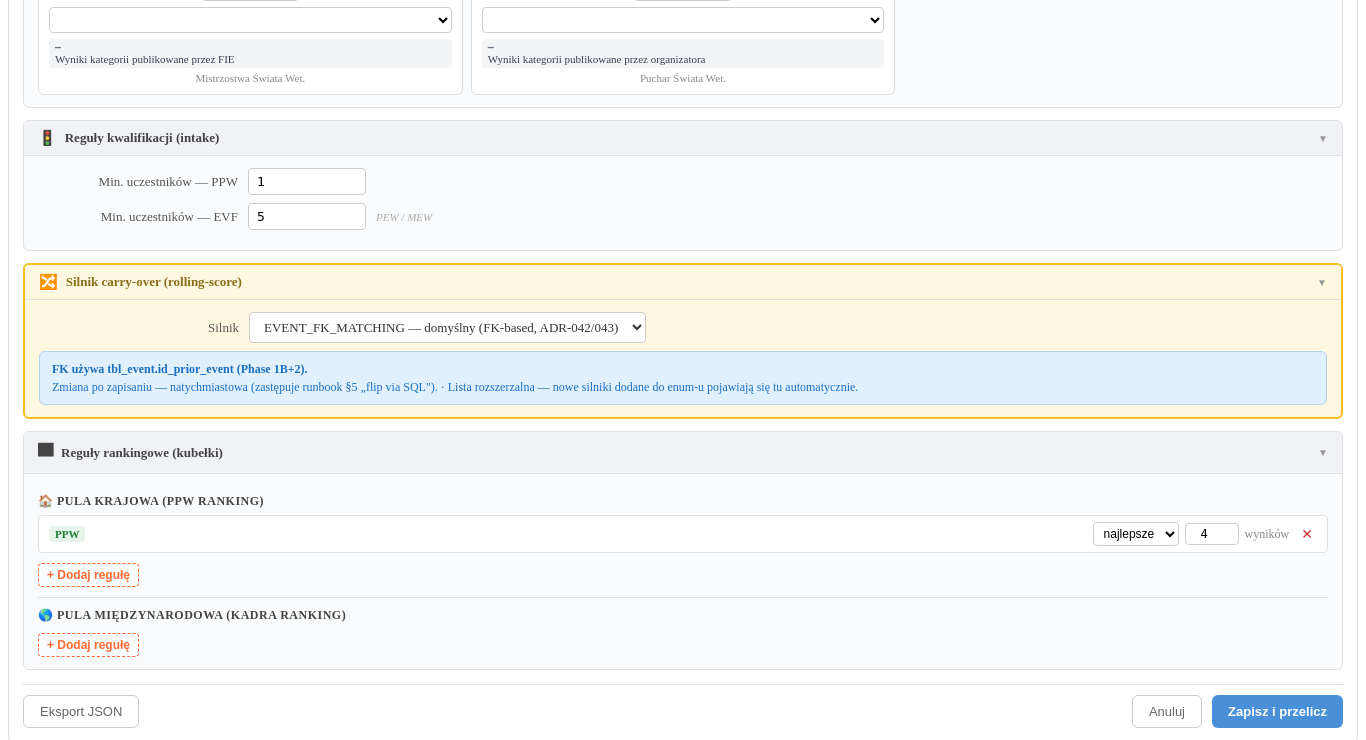
Test case: ScoringConfigEditor (T8.8) › can add a new bucket to domestic pool
(page scrolled)
Click the button with class "add-bucket-btn" below "🏠 Pula krajowa (PPW ranking)" at (88, 575), box [38, 563, 139, 587]
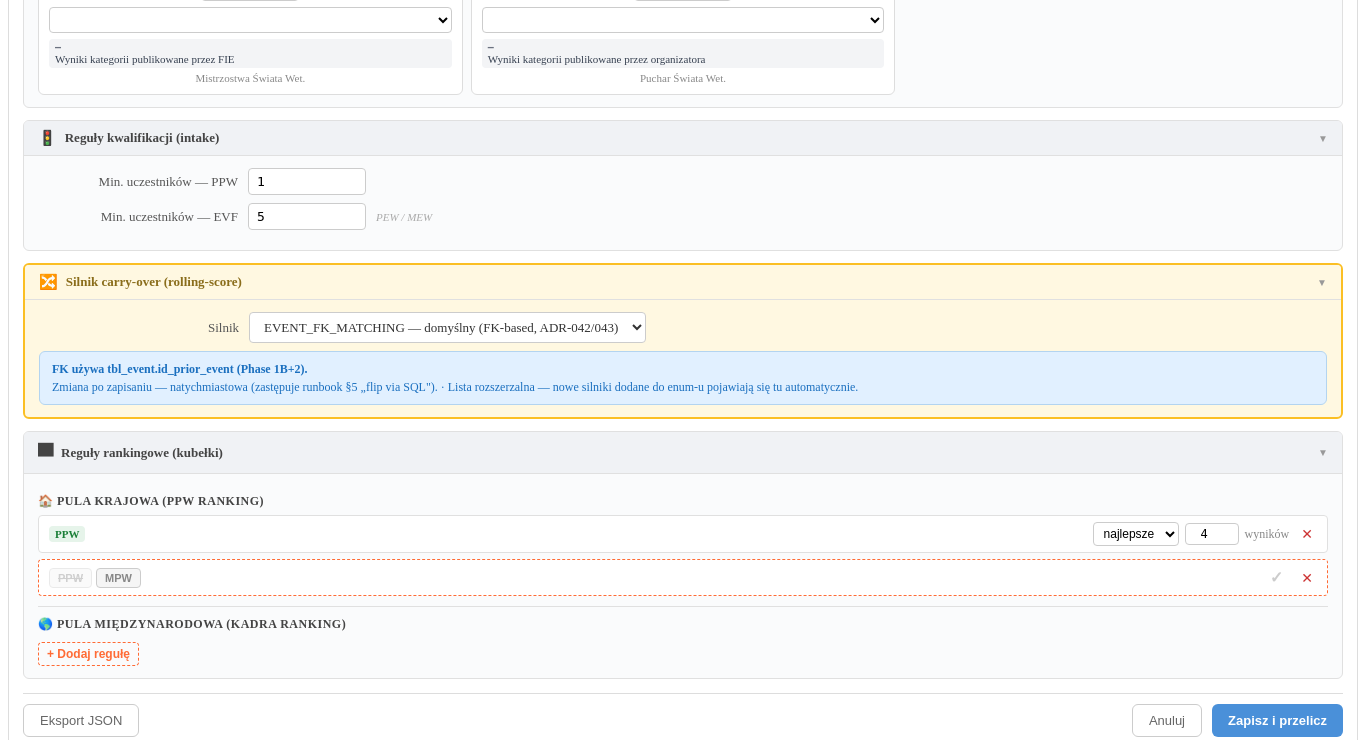
Expected: the element with class "new-bucket-picker" is shown, [38, 559, 1328, 596]
Expected: the button "MPW" is shown
Click the button "MPW" at (119, 578), box [96, 568, 141, 588]
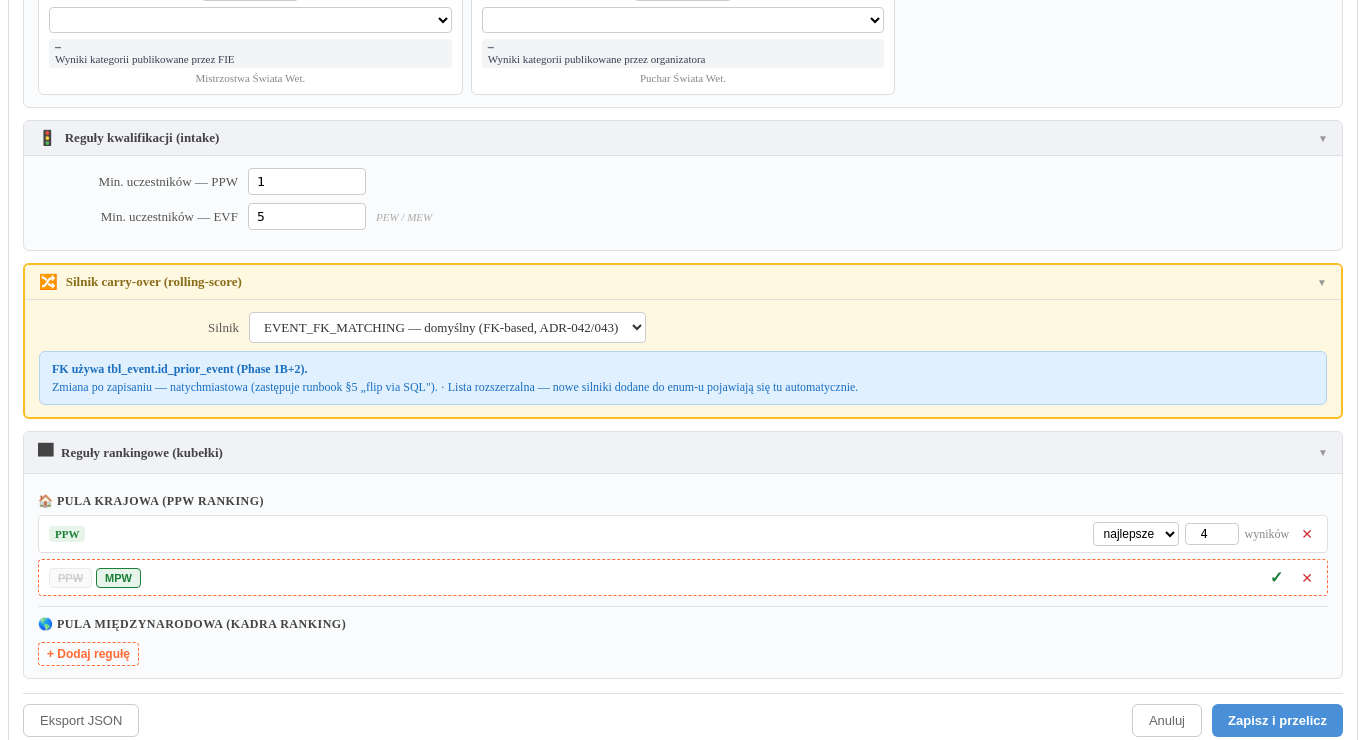
Click the button "✓" at (1277, 578), box [1264, 566, 1289, 589]
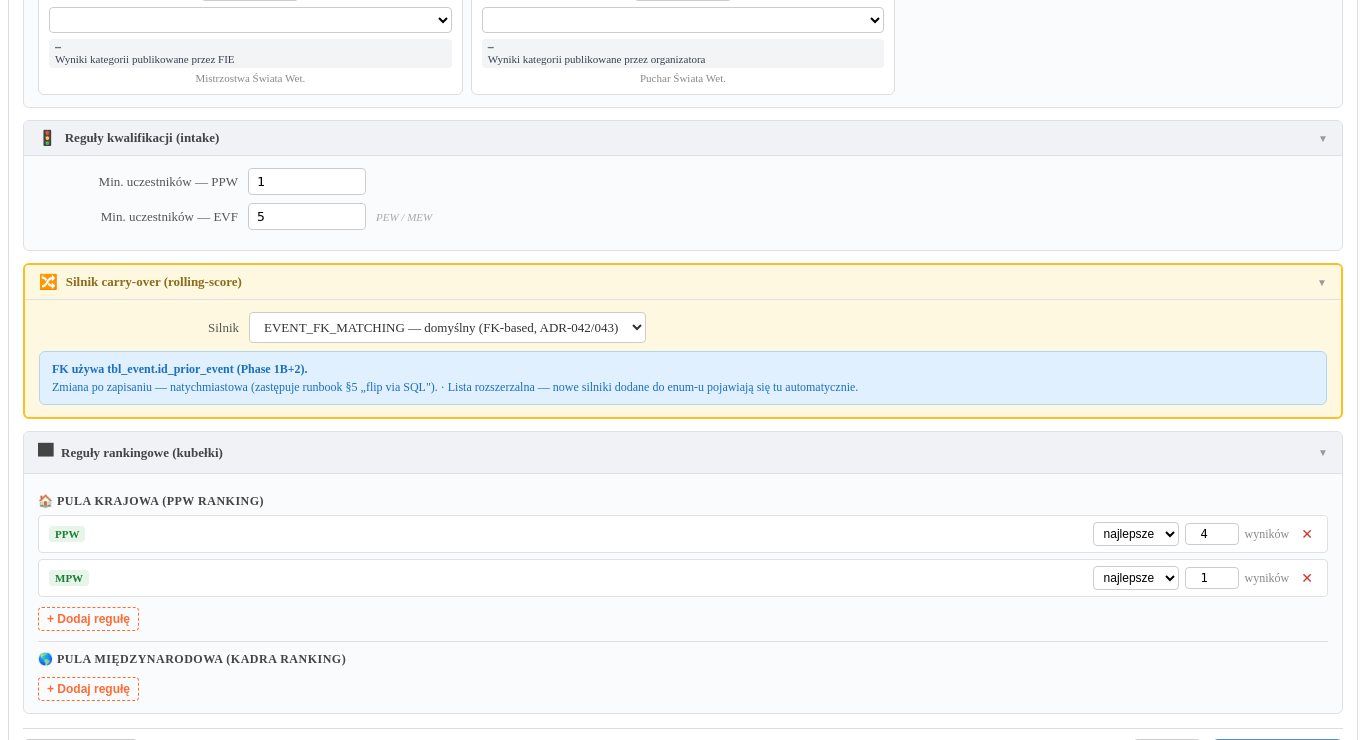
Expected: the number of elements with class "bucket-row" is 2, [38, 515, 1328, 553]; [38, 559, 1328, 597]
